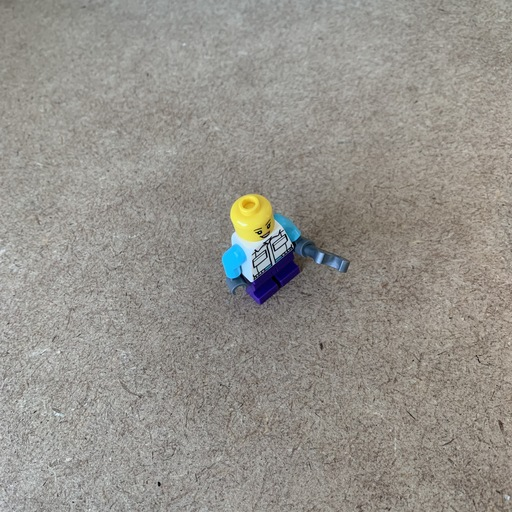human: (218, 192, 314, 310)
